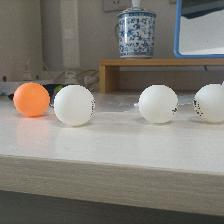WhiteBall: (53, 84, 94, 126), (138, 83, 178, 122), (192, 83, 224, 123)
YellowBall: (13, 82, 50, 117)
